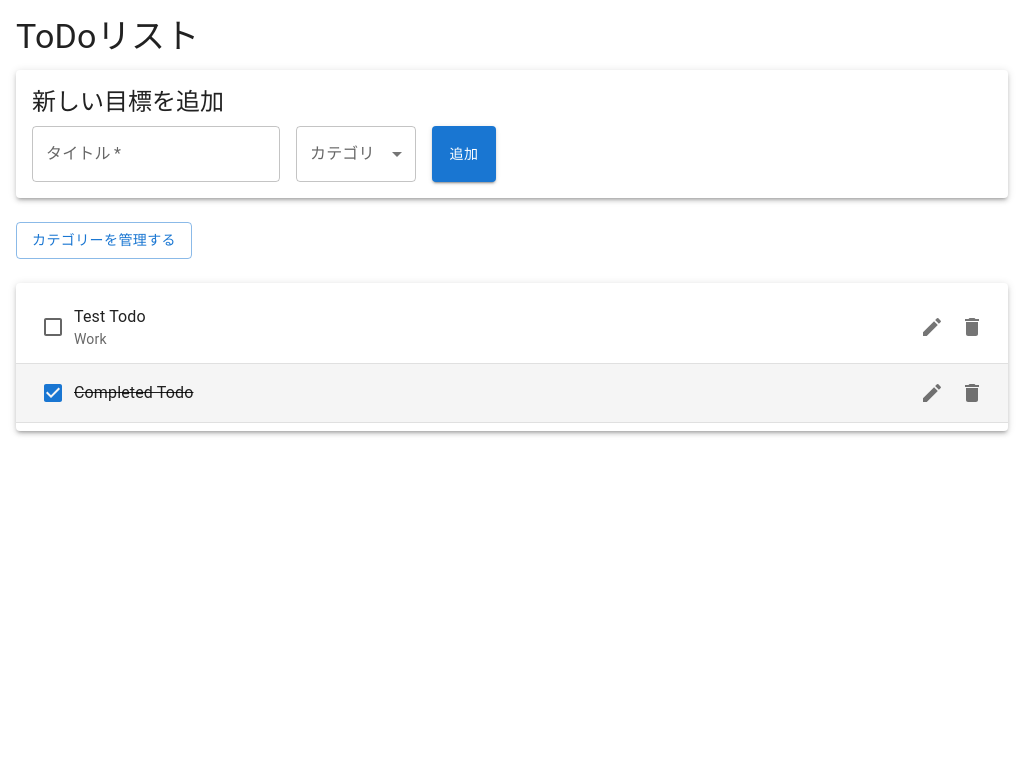
Test case: TodoList Component › UI Interactions › should close edit dialog when clicking cancel
Expected: the text "Test Todo" is shown, [74,307,146,326]
Note: Open edit dialog
Click the button with test id "EditIcon". click: (932, 327)
box: [912,307,952,347]
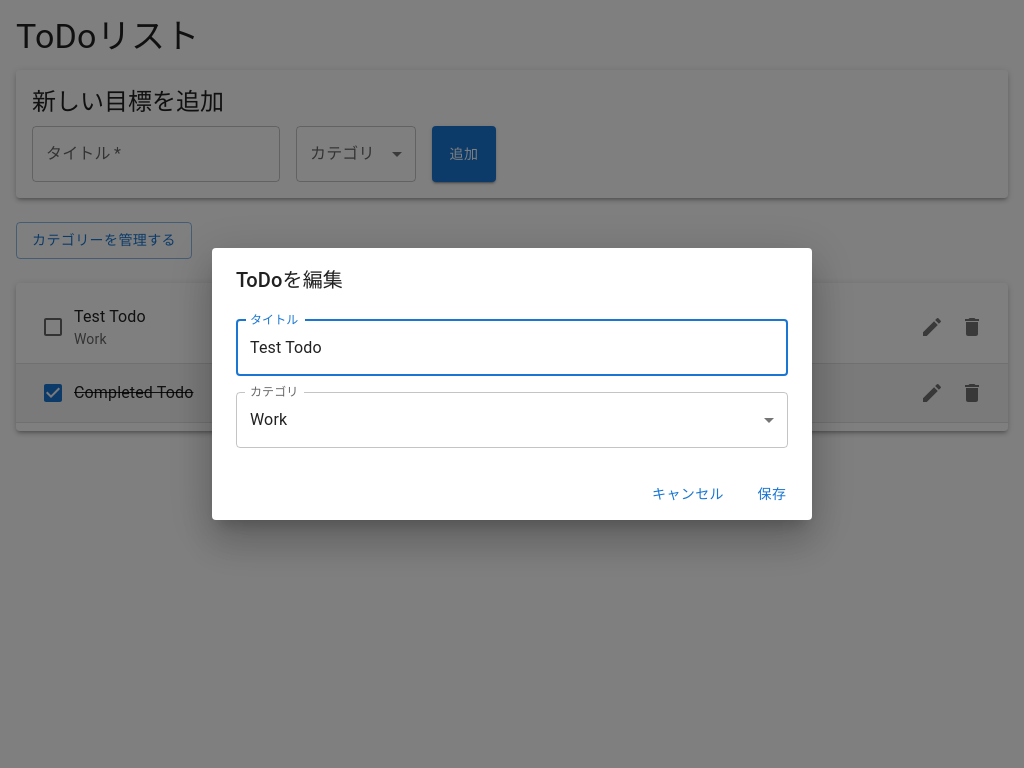
Now the heading "ToDoを編集" is shown, box [236,268,343,292]
Note: Click cancel button
Click the button "キャンセル". click: (688, 494)
box: [644,476,732,512]
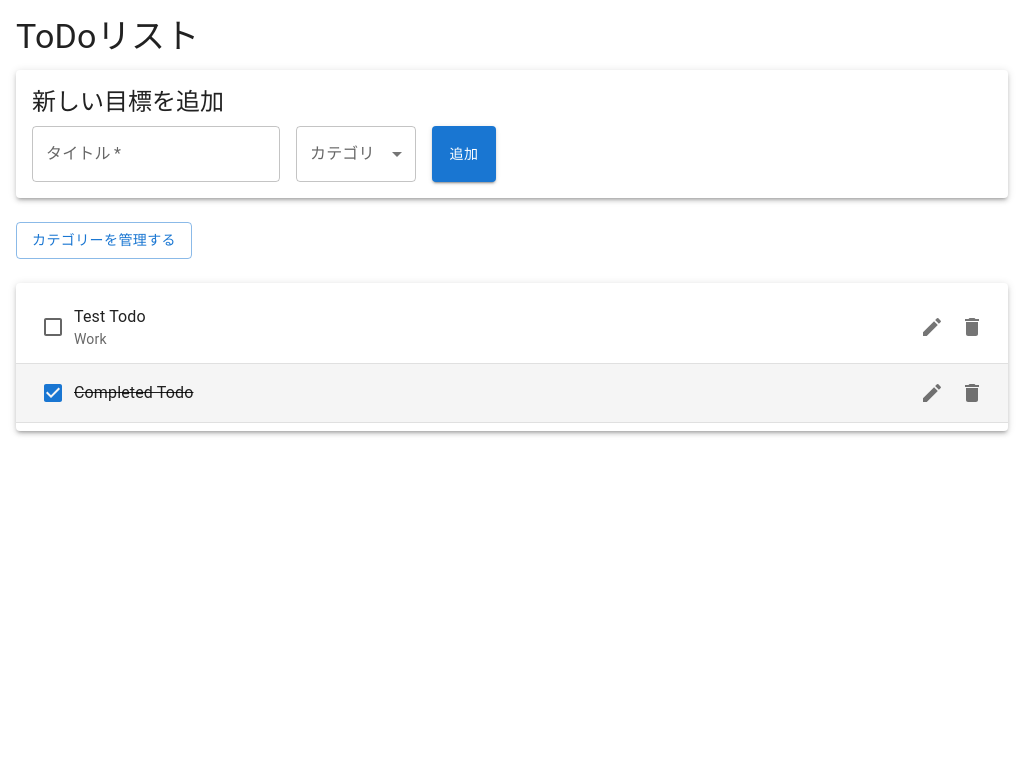
Now the heading "ToDoを編集" is gone
